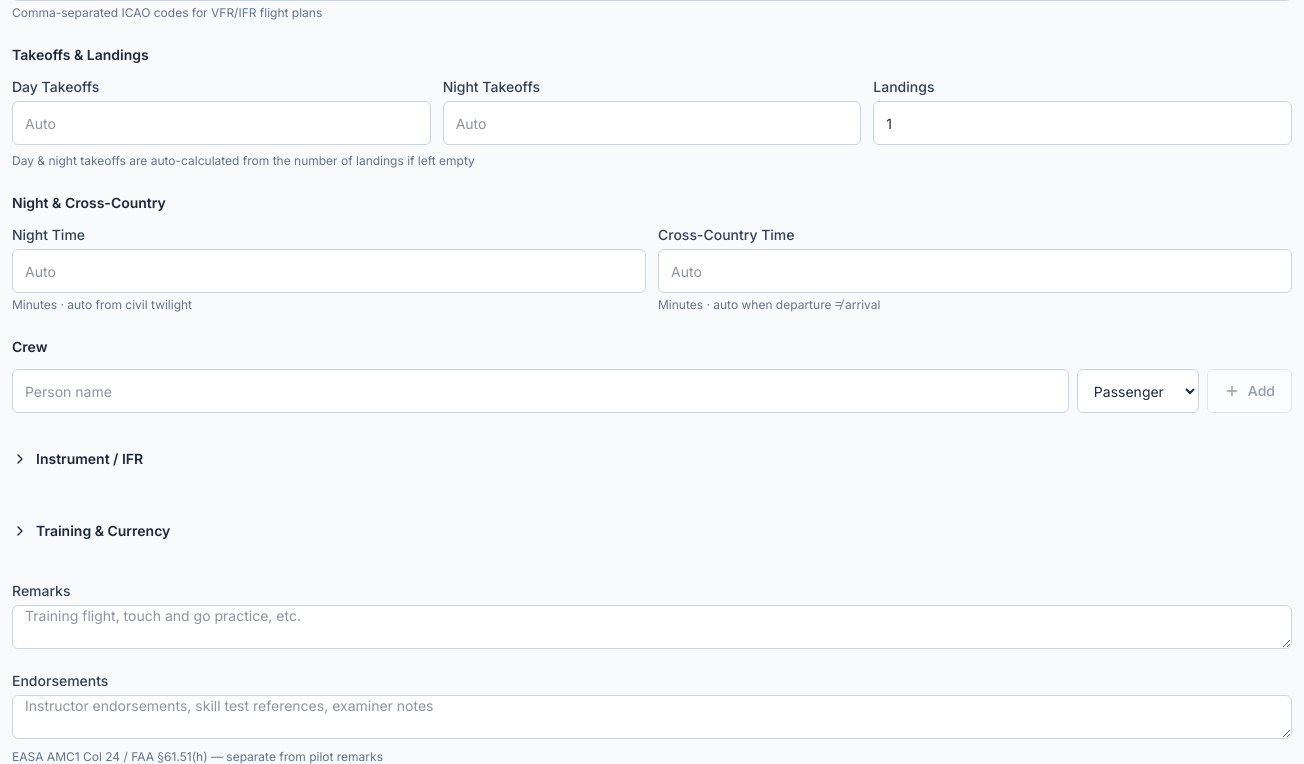
Test case: FlightForm Crew Section › removes a crew member
The image size is (1304, 764).
(page scrolled)
Type "Jane Doe" into the dropdown with placeholder "Person name".
click(540, 391); type("Jane Doe")  # box [12,369,1069,413]
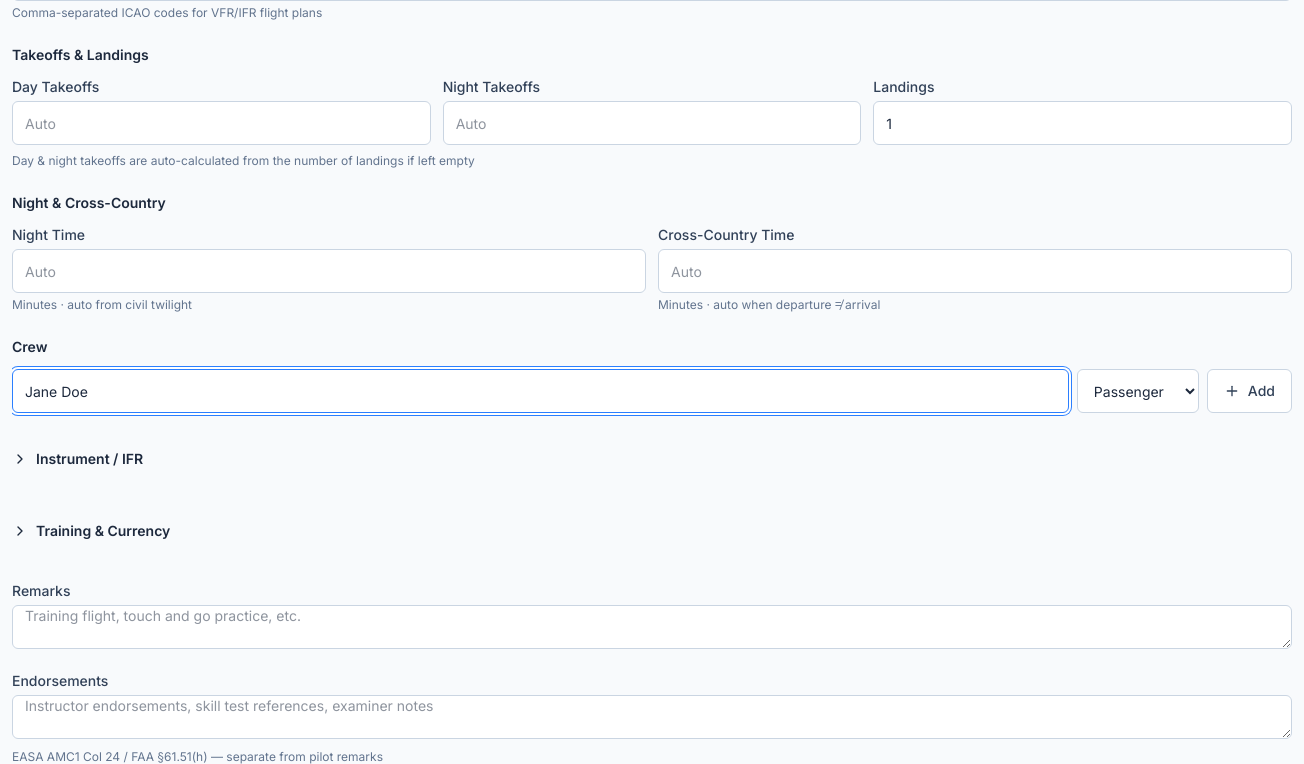
Click the button "Add".
click(1249, 391)  # box [1207,369,1292,413]
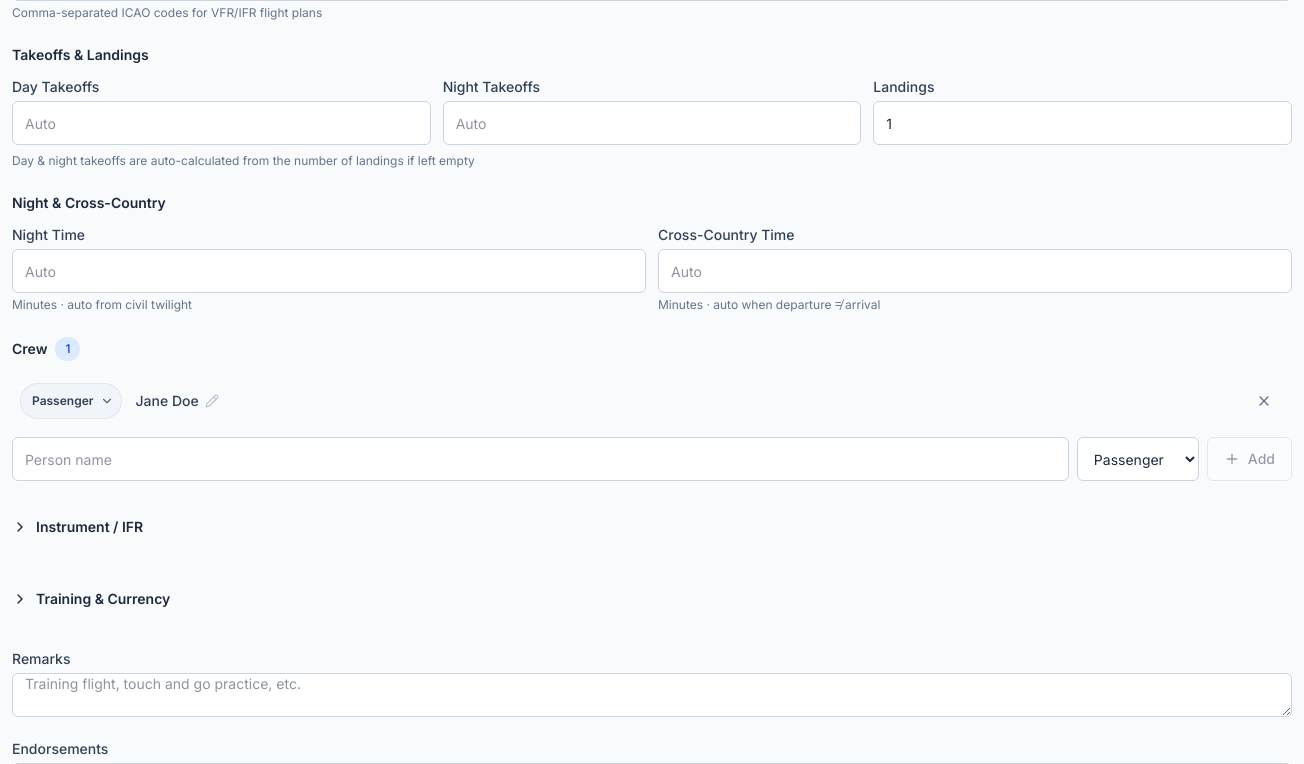
Expected: the text "Jane Doe" is shown, [136,391,199,411]
Note: Remove the crew member
Click the button named "remove jane doe".
click(1264, 401)  # box [1242,379,1286,423]
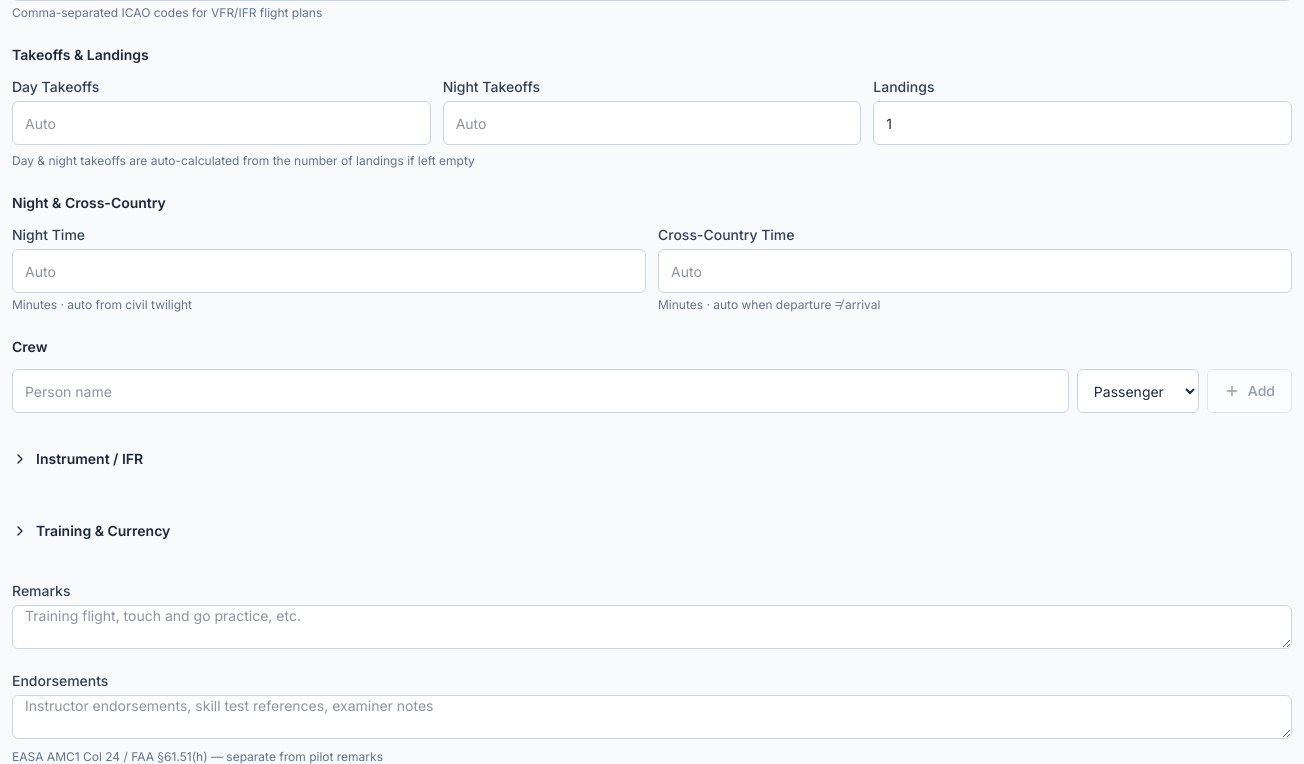
Expected: the button "Jane Doe" is gone
